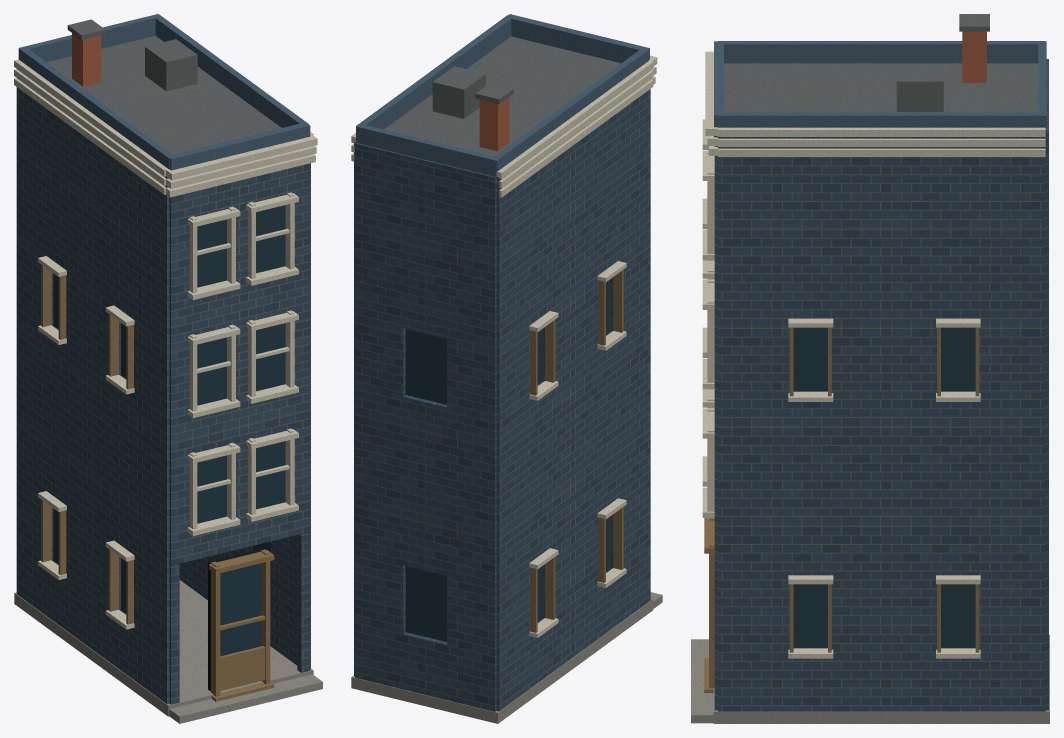
File: OFFC13_lod2.glb
The picture shows the model from 3 angles, left to right: view 1: azimuth 30°, elevation 25°; view 2: azimuth 150°, elevation 25°; view 3: azimuth 270°, elevation 25°; orthographic projection. The views are drawn at different scales.
Parts seen in each view (by area): view 1: OFFC13_LOD2; view 2: OFFC13_LOD2; view 3: OFFC13_LOD2.
Part boxes in pixels (<box>): OFFC13_LOD2: <box>14,14,322,723</box>; OFFC13_LOD2: <box>351,14,662,723</box>; OFFC13_LOD2: <box>691,14,1049,723</box>.
Bounding box in the file's own units: 3.71 × 13.05 × 6.57.
9 materials, 7 textured.
